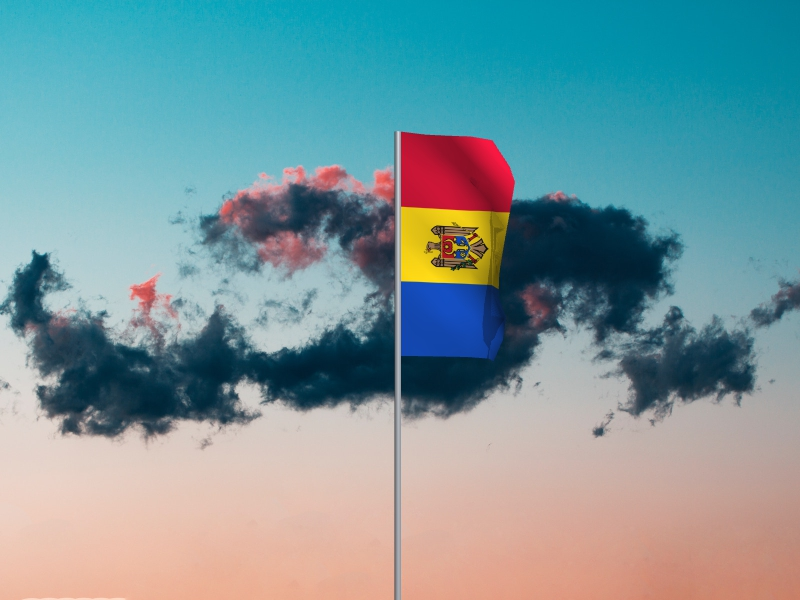md: (402, 132, 516, 361)
